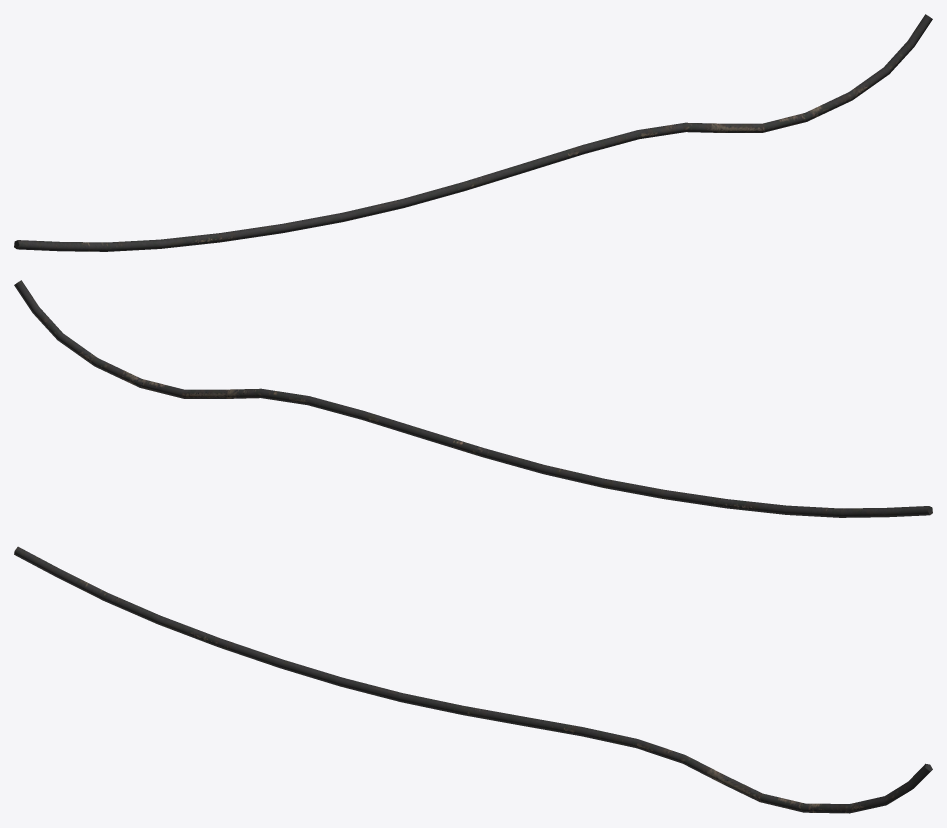
The model's file is plane_wreckage_cable_02.dae.
3 renders of one model, top to bottom at view 1: azimuth 30°, elevation 25°; view 2: azimuth 150°, elevation 25°; view 3: azimuth 330°, elevation 25°, orthographic.
Parts seen in each view (by area): view 1: plane_wreckage_cable_02; view 2: plane_wreckage_cable_02; view 3: plane_wreckage_cable_02.
Part boxes in pixels (left/top/right/bottom): plane_wreckage_cable_02: left=14, top=14, right=932, bottom=251; plane_wreckage_cable_02: left=14, top=280, right=932, bottom=517; plane_wreckage_cable_02: left=14, top=546, right=932, bottom=813.
Bounding box in the file's own units: 189 × 15.29 × 1.71.
